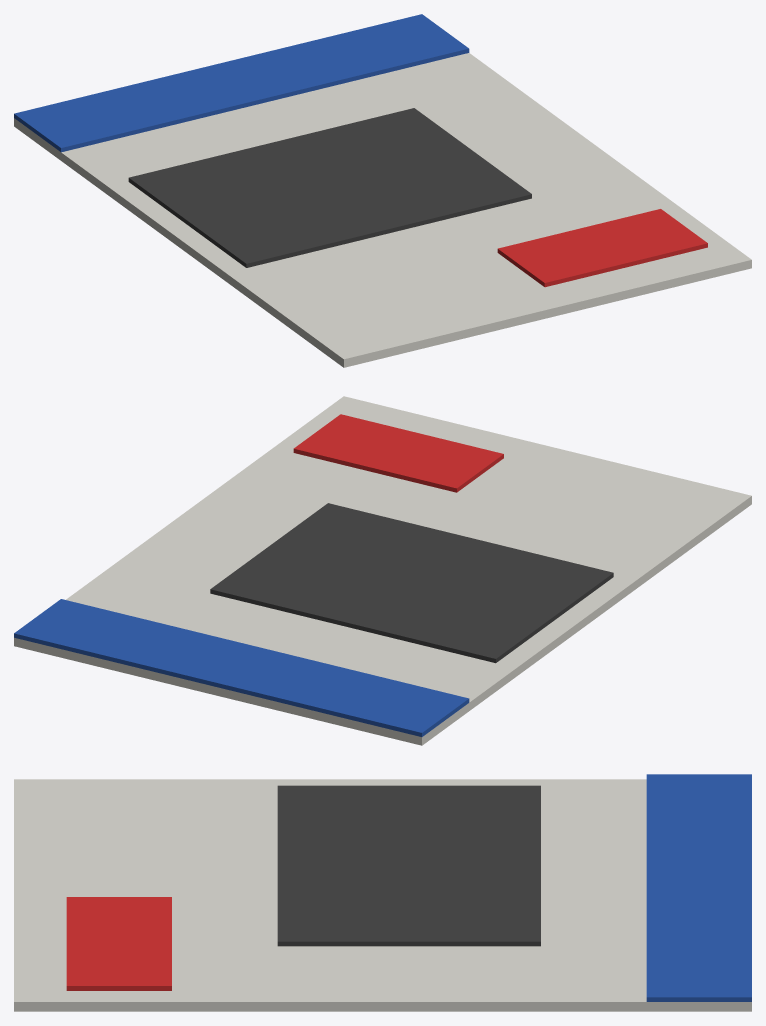
File: rink_zero_bills.glb
3 views of the same model, one above another, from view 1: azimuth 30°, elevation 25°; view 2: azimuth 150°, elevation 25°; view 3: azimuth 270°, elevation 25° (orthographic). The views are drawn at different scales.
Parts seen in each view (by area): view 1: paper_bill_paper, lines_bill_ink, header_bill_header, total_bill_total; view 2: paper_bill_paper, lines_bill_ink, header_bill_header, total_bill_total; view 3: paper_bill_paper, lines_bill_ink, header_bill_header, total_bill_total.
Part boxes in pixels (x1,y1,x2,y2): paper_bill_paper: (14, 53, 751, 367); lines_bill_ink: (128, 108, 531, 267); header_bill_header: (14, 14, 469, 152); total_bill_total: (497, 209, 707, 287); paper_bill_paper: (14, 396, 751, 745); lines_bill_ink: (210, 503, 613, 663); header_bill_header: (14, 599, 469, 736); total_bill_total: (293, 414, 503, 492); paper_bill_paper: (14, 779, 751, 1011); lines_bill_ink: (277, 785, 540, 946); header_bill_header: (646, 774, 751, 1001); total_bill_total: (66, 897, 171, 990).
Size of the model in its own units: 0.2 by 0.006 by 0.28.
